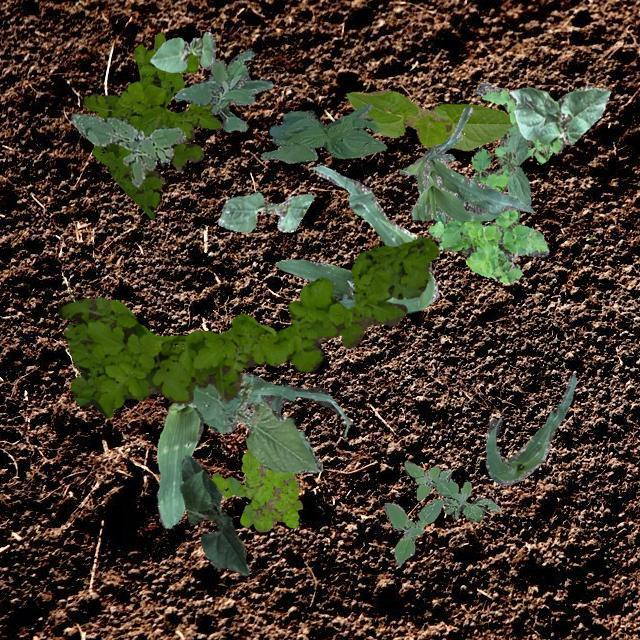crop: (156, 372, 352, 528), (308, 165, 438, 312), (398, 106, 534, 220), (190, 380, 322, 472), (484, 372, 576, 484), (346, 89, 510, 150), (178, 454, 248, 574), (260, 102, 386, 162), (508, 84, 610, 144), (216, 190, 312, 232), (276, 258, 354, 308), (150, 30, 214, 72), (498, 124, 530, 204)
weed: (58, 234, 438, 416), (428, 80, 562, 282), (80, 32, 220, 218), (384, 460, 499, 564), (70, 111, 184, 186), (172, 48, 272, 130), (210, 446, 302, 530)
